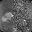people: (1, 13, 14, 23)
